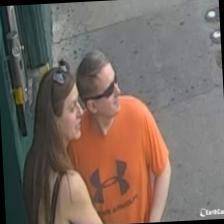person: (59, 46, 174, 224), (13, 64, 102, 224)
